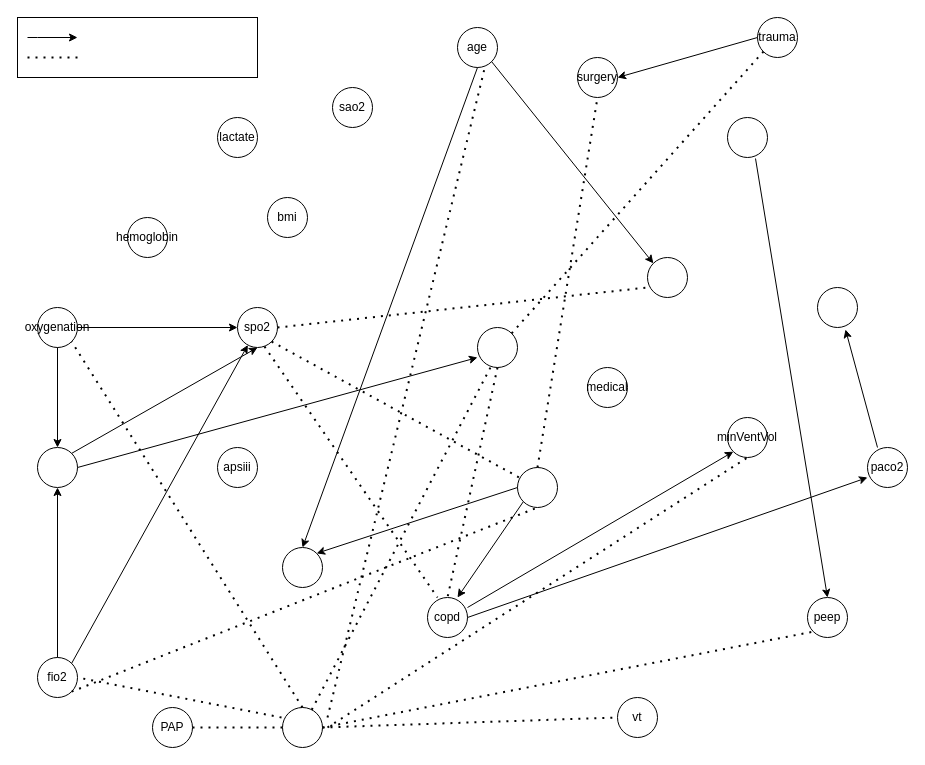
The diagram is 925 pixels wide and 765 high, and some of its shapes have lost their labels. Each missing label, with the box of its shape:
ards: (726, 116, 768, 158)
death: (646, 256, 688, 298)
gender: (282, 706, 322, 748)
ischemicHd: (282, 546, 322, 588)
pao2: (36, 446, 78, 488)
ph: (816, 286, 858, 328)
smoker: (516, 466, 558, 508)
sofa: (476, 326, 518, 368)
Supported edges Unsupported edges: (16, 16, 258, 78)
